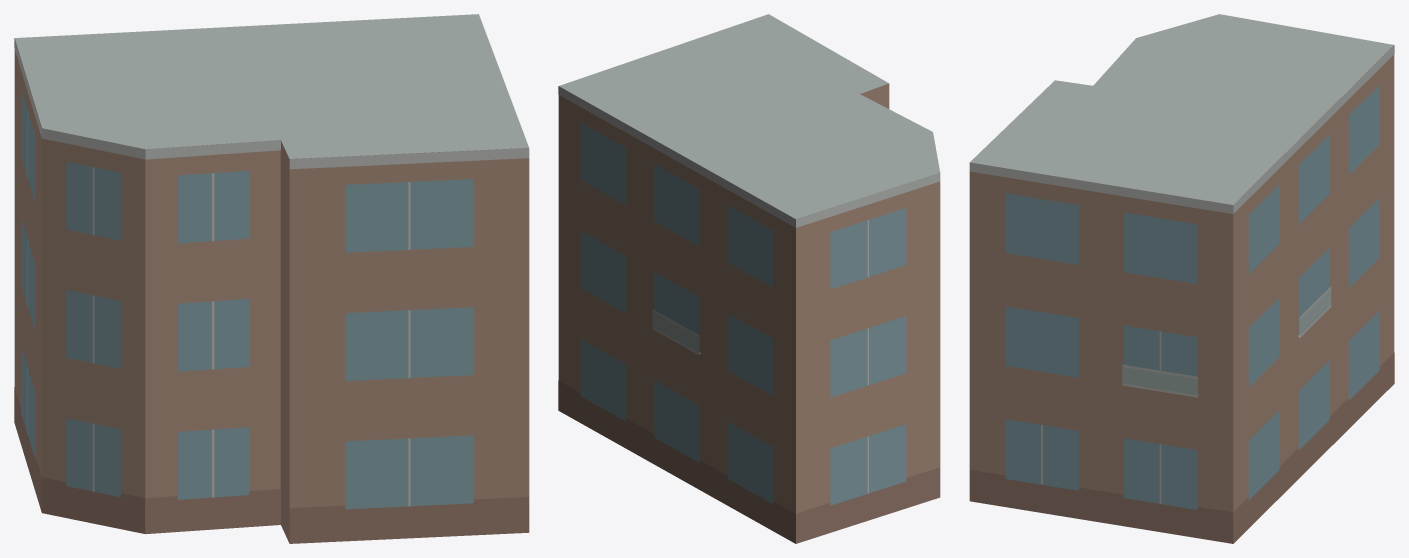
File: survey-upis-32720956.glb
3 views of the same model, side by side, from view 1: azimuth 30°, elevation 25°; view 2: azimuth 150°, elevation 25°; view 3: azimuth 270°, elevation 25° (orthographic). The views are drawn at different scales.
Parts seen in each view (by area): view 1: survey-upis-32720956.tmp; view 2: survey-upis-32720956.tmp; view 3: survey-upis-32720956.tmp.
Part boxes in pixels (<box>): survey-upis-32720956.tmp: <box>14,14,529,543</box>; survey-upis-32720956.tmp: <box>558,14,940,543</box>; survey-upis-32720956.tmp: <box>969,14,1394,543</box>.
Size of the model in its own units: 11.01 by 9.1 by 10.35.
